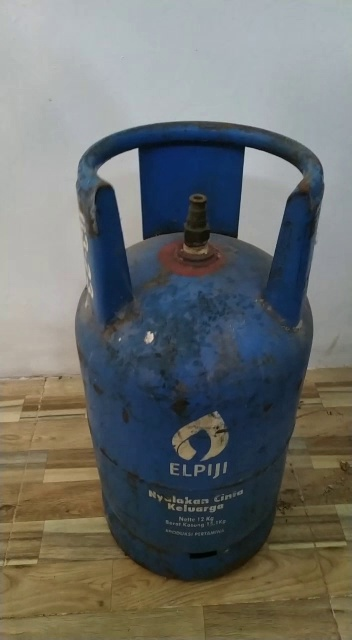blue_gas: (74, 119, 327, 583)
